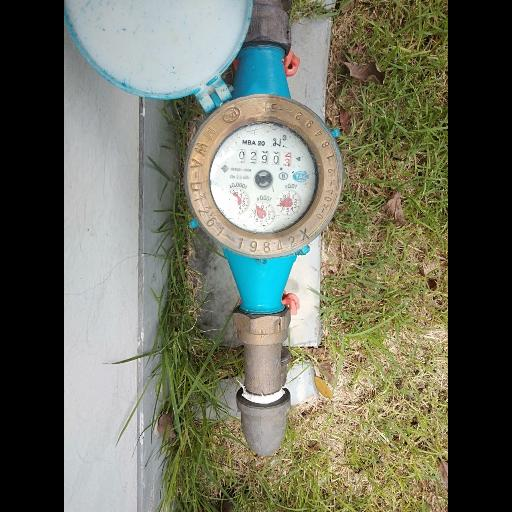0: (238, 149, 246, 163), (272, 151, 280, 165)
2: (249, 150, 258, 164), (284, 152, 293, 166)
9: (261, 150, 270, 164)
border_water_meter_number: (237, 149, 296, 167)
